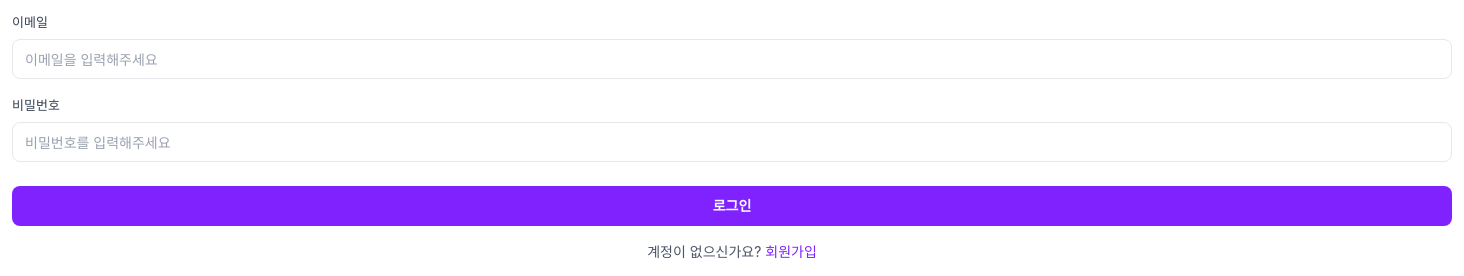
Scenario: LoginForm › 로그인 중 버튼이 로딩 상태로 표시된다
Type "test@test.com" into the field labelled "이메일" at [732, 59], box [12, 39, 1452, 79]
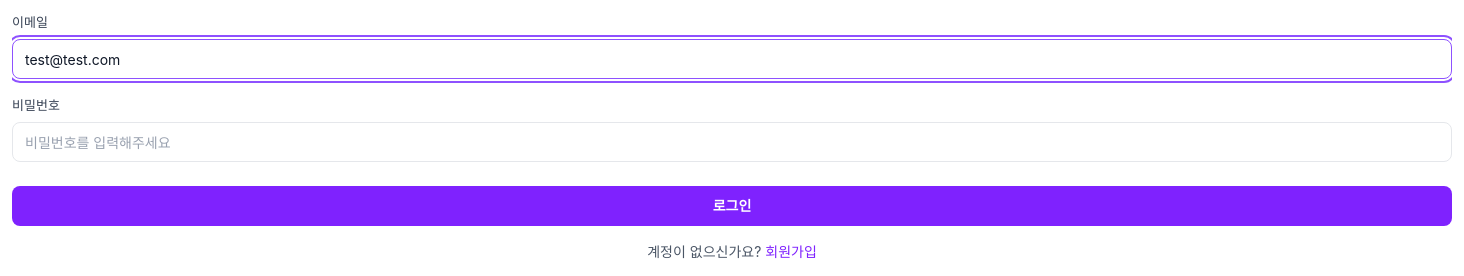
Type "password123" into the password field labelled "비밀번호" at [732, 142], box [12, 122, 1452, 162]
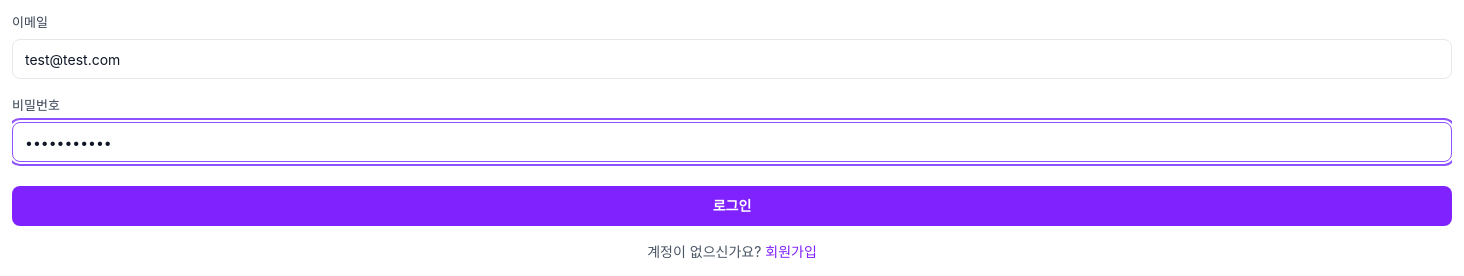
Click the button "로그인" at [732, 206], box [12, 186, 1452, 226]
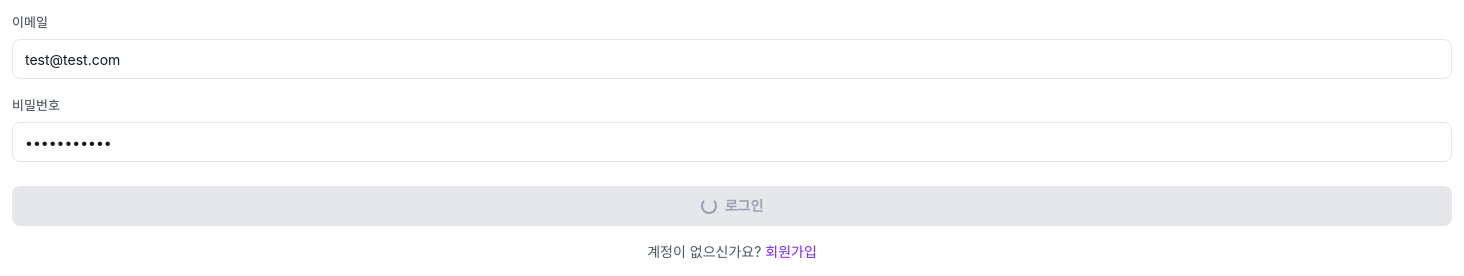
Result: the button "로그인" is disabled at [12, 186, 1452, 226]
